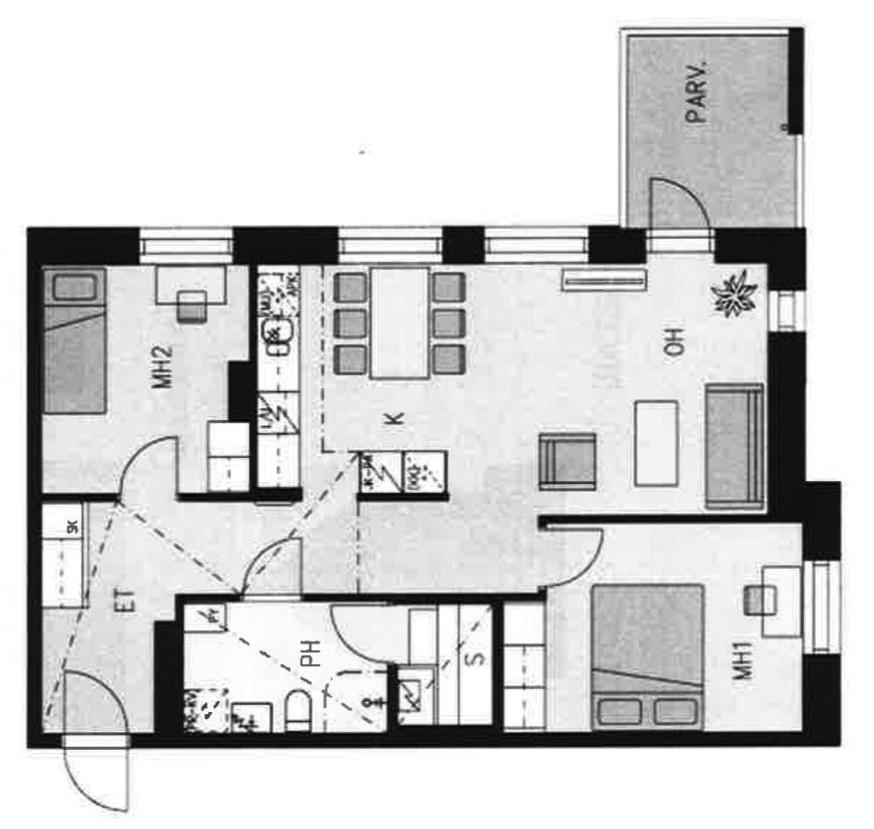bathroom: (181, 602, 392, 734)
door: (643, 169, 715, 261), (61, 732, 133, 816), (60, 668, 130, 747), (326, 600, 404, 669), (536, 520, 608, 591), (116, 431, 182, 504), (239, 536, 304, 601)
perimeter: (22, 224, 844, 751)
window: (327, 221, 455, 270), (476, 223, 600, 269), (800, 552, 844, 665), (128, 223, 240, 266), (763, 273, 812, 333)
